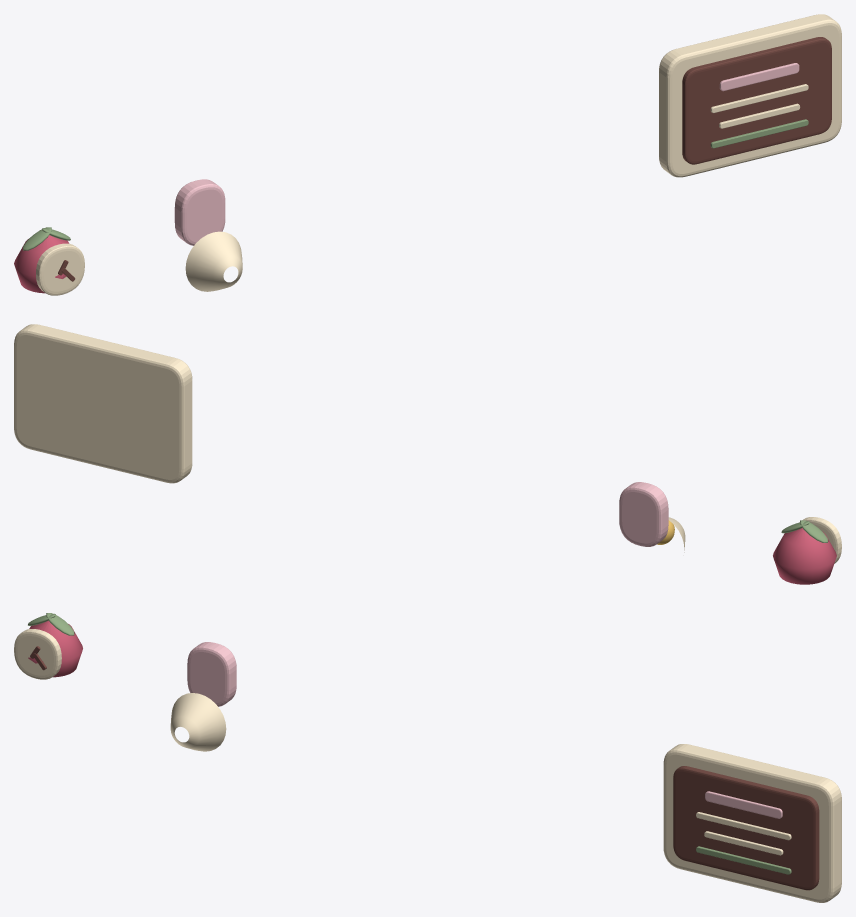
Rendered from room-decor.glb.
3 views of the same model, one above another, from view 1: azimuth 30°, elevation 25°; view 2: azimuth 150°, elevation 25°; view 3: azimuth 330°, elevation 25° (orthographic). The views are drawn at different scales.
Parts seen in each view (by area): view 1: MenuInset, MenuFrame, SconceBackplate, SconceShade, ClockFace, ClockStrawberryBerry, MenuHeader, MenuLine3, MenuLine1, MenuLine2; view 2: MenuFrame, SconceBackplate, ClockStrawberryBerry, ClockFace; view 3: MenuInset, MenuFrame, SconceBackplate, SconceShade, ClockFace, ClockStrawberryBerry, MenuHeader, MenuLine1, MenuLine3, MenuLine2.
Part boxes in pixels (box(x1,y1,x2,y2)): MenuInset: box(682, 37, 831, 164); MenuFrame: box(659, 14, 841, 177); SconceBackplate: box(174, 179, 225, 245); SconceShade: box(185, 231, 242, 291); ClockFace: box(36, 243, 84, 295); ClockStrawberryBerry: box(14, 235, 69, 293); MenuHeader: box(719, 63, 799, 91); MenuLine3: box(710, 119, 808, 148); MenuLine1: box(710, 84, 808, 113); MenuLine2: box(719, 103, 800, 128); MenuFrame: box(14, 324, 192, 483); SconceBackplate: box(619, 482, 668, 546); ClockStrawberryBerry: box(773, 528, 836, 584); ClockFace: box(799, 517, 841, 563); MenuInset: box(673, 766, 819, 890); MenuFrame: box(663, 744, 841, 902); SconceBackplate: box(187, 642, 236, 706); SconceShade: box(170, 693, 226, 751); ClockFace: box(14, 629, 61, 679); ClockStrawberryBerry: box(28, 620, 82, 677); MenuHeader: box(705, 791, 782, 818); MenuLine1: box(696, 812, 791, 840); MenuLine3: box(696, 846, 791, 874); MenuLine2: box(704, 831, 783, 855).
Size of the model in its own units: 8.84 by 1.25 by 0.7645.
